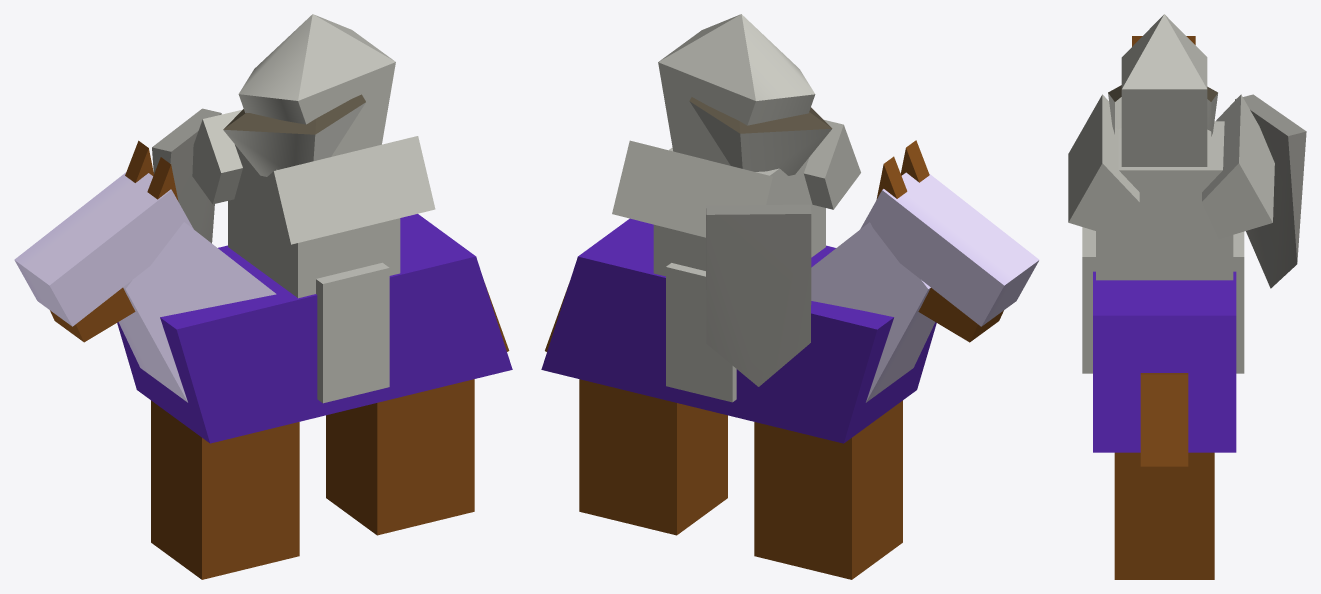
File: knight.fbx
The picture shows the model from 3 angles, left to right: view 1: azimuth 30°, elevation 25°; view 2: azimuth 150°, elevation 25°; view 3: azimuth 270°, elevation 25°; orthographic projection. The views are drawn at different scales.
Visible parts, largest first — view 1: footsoldier:polySurface141; view 2: footsoldier:polySurface141; view 3: footsoldier:polySurface141.
Boxes of the visible parts, box(x1,y1,x2,y2) form: footsoldier:polySurface141: box(14, 14, 512, 579); footsoldier:polySurface141: box(541, 14, 1039, 579); footsoldier:polySurface141: box(1068, 14, 1306, 579).
Size of the model in its own units: 45.35 by 47.88 by 20.56.
Materials: 1 (1 with a texture image).
